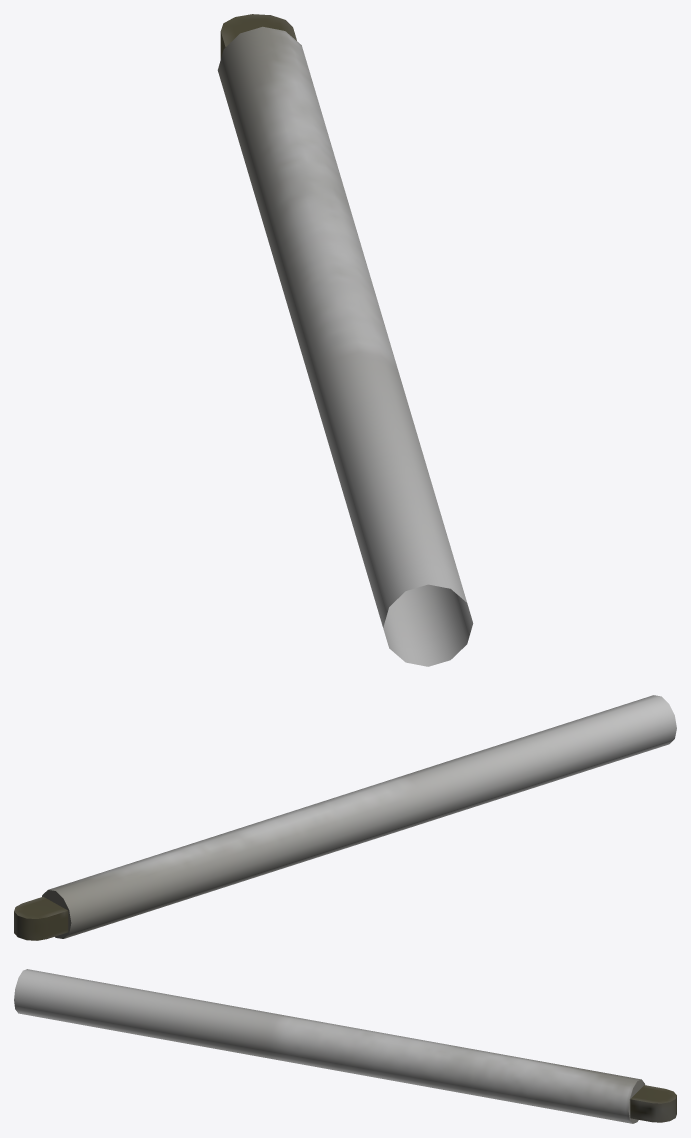
Rendered from bucket_cyl_rod.obj.
The picture shows the model from 3 angles, top to bottom: view 1: azimuth 30°, elevation 25°; view 2: azimuth 150°, elevation 25°; view 3: azimuth 270°, elevation 25°; orthographic projection. The views are drawn at different scales.
Parts seen in each view (by area): view 1: Piston.011; view 2: Piston.011; view 3: Piston.011.
Boxes of the visible parts, x1,y1,x2,y2 form: Piston.011: (217,14,473,666); Piston.011: (14,695,676,940); Piston.011: (14,969,676,1123).
Size of the model in its own units: 0.3097 by 0.0467 by 0.668.
Materials: 1 (1 with a texture image).
